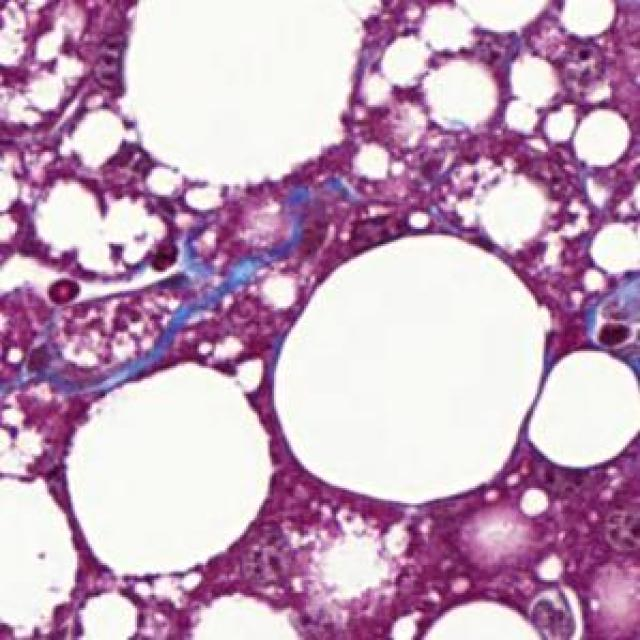steatosis: (274, 227, 548, 501), (53, 359, 270, 586), (567, 96, 638, 176)
